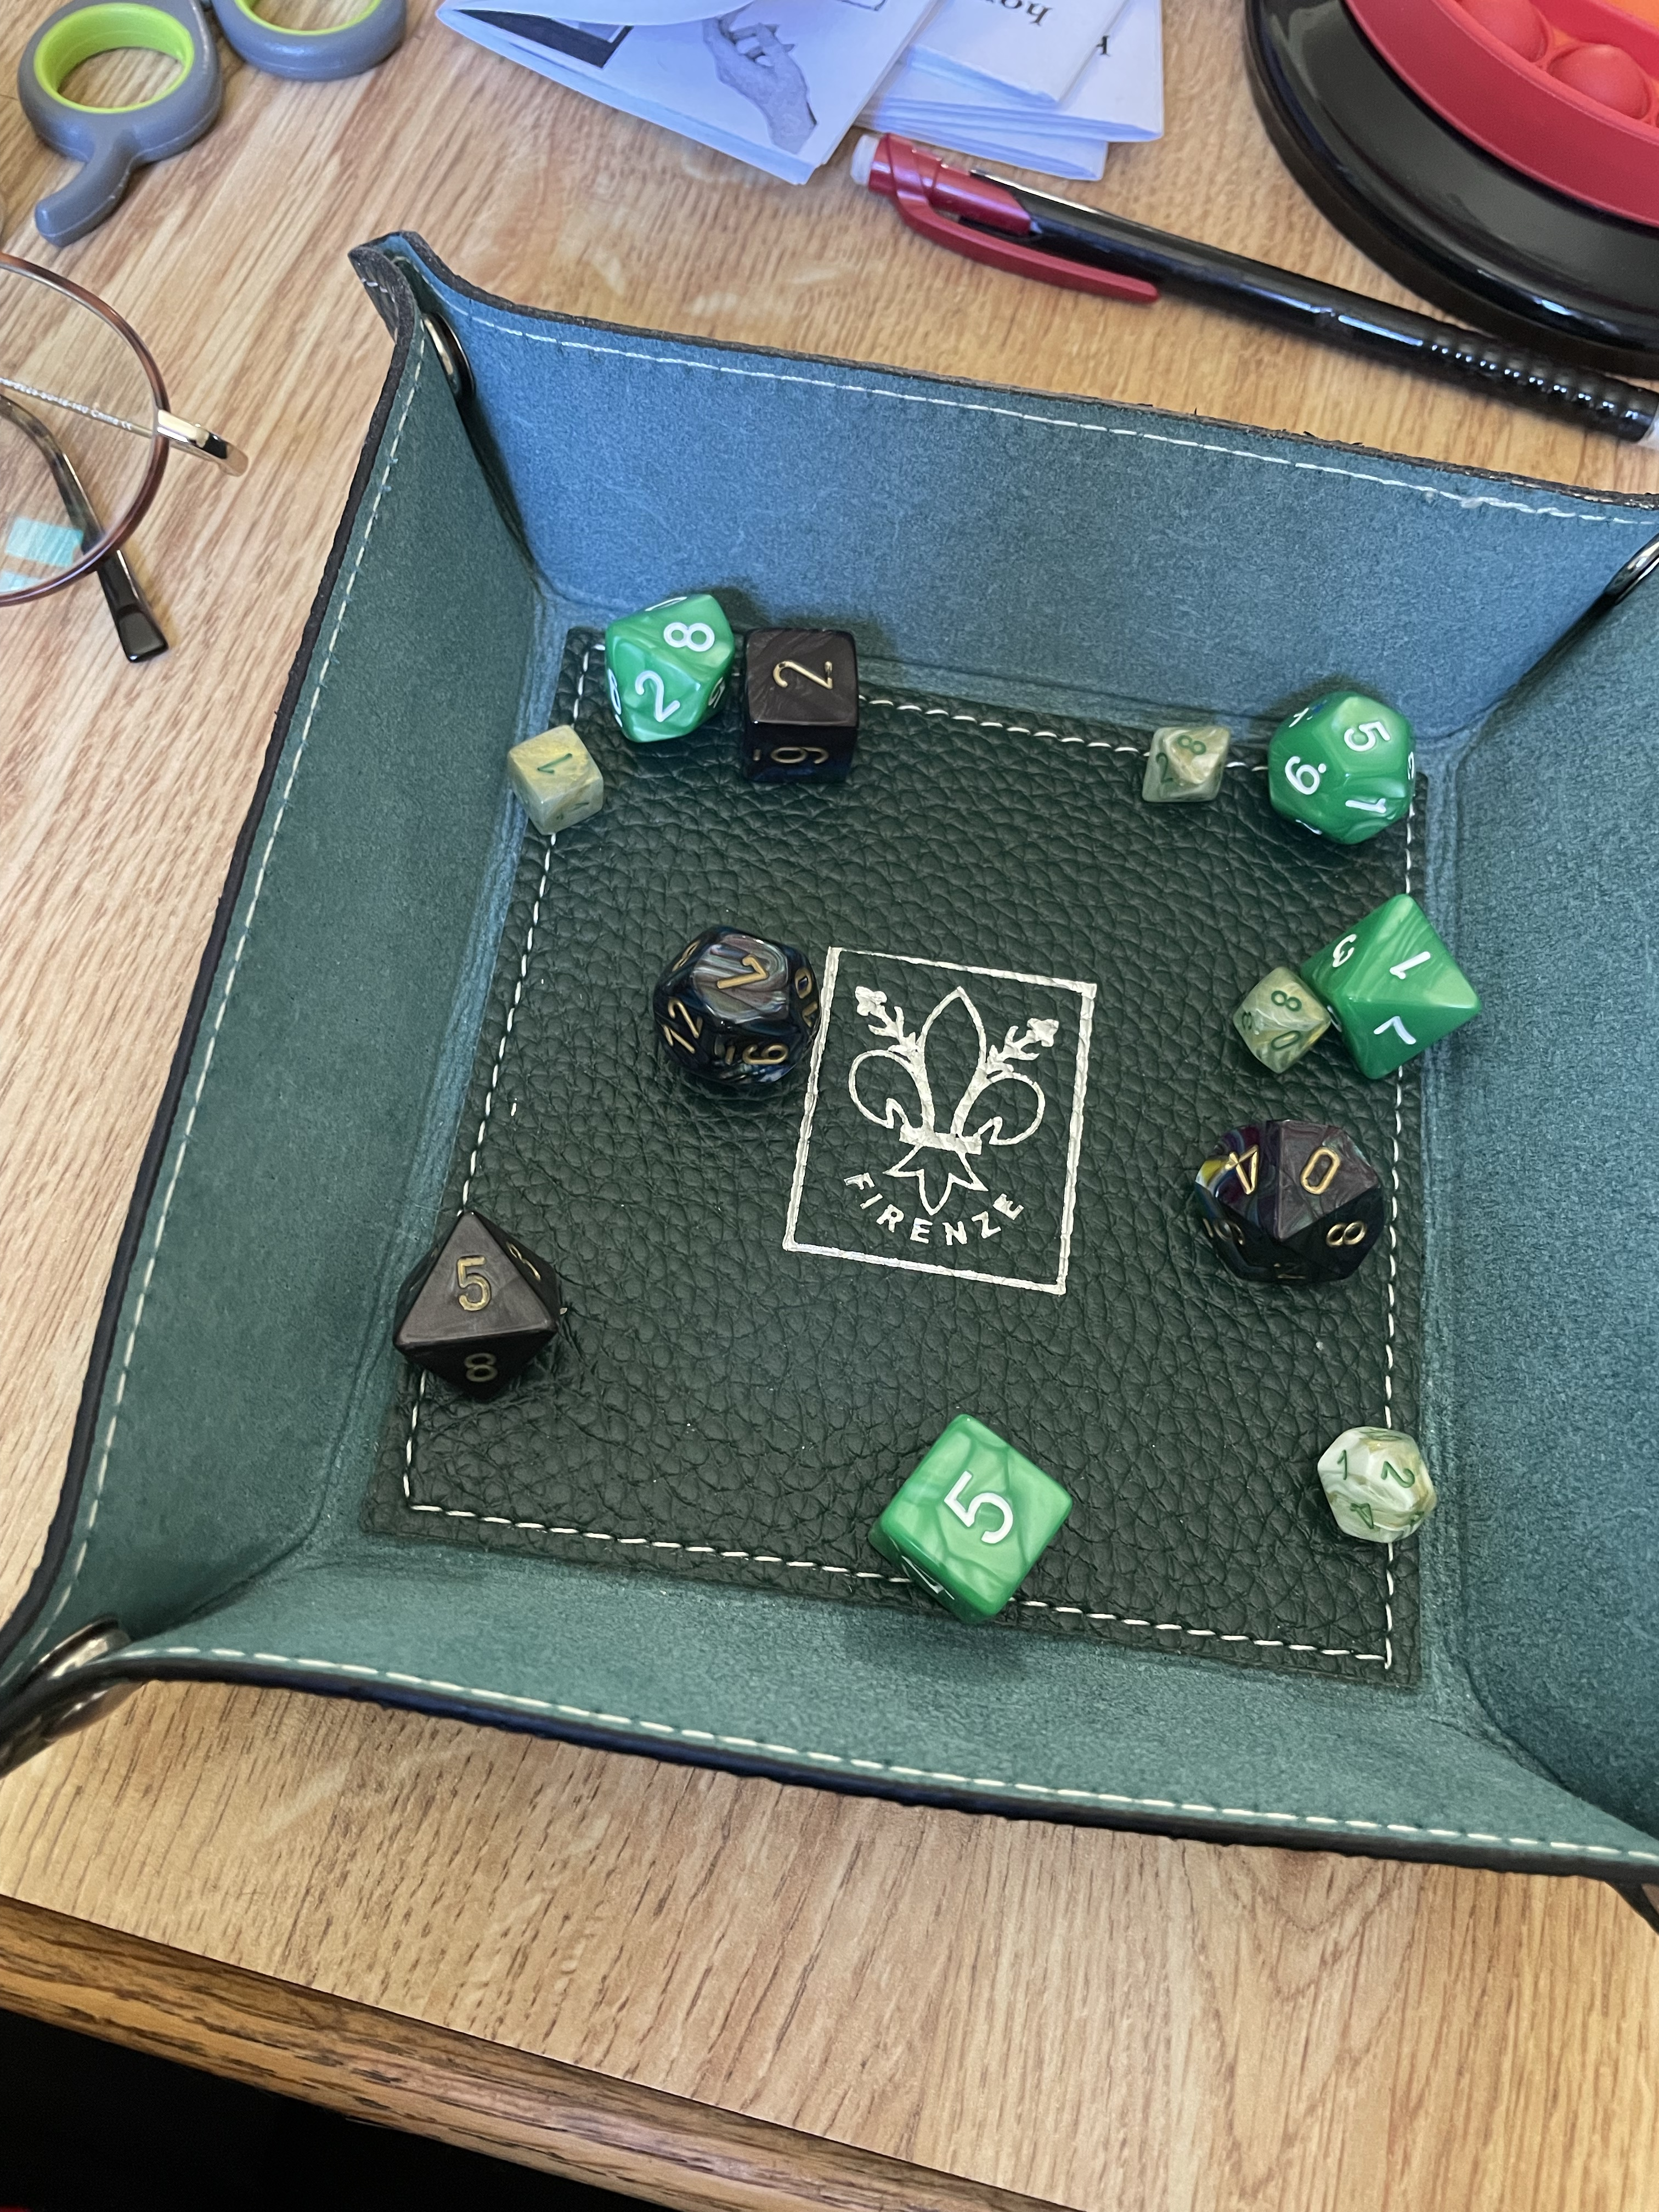eight: (587, 573, 758, 765), (1211, 948, 1345, 1082), (1121, 693, 1246, 829)
five: (833, 1381, 1129, 1663), (1229, 653, 1473, 876), (373, 1191, 594, 1428)
one: (1307, 874, 1504, 1111), (483, 705, 626, 848)
seven: (633, 895, 856, 1132)
two: (1281, 1409, 1473, 1585), (730, 617, 890, 803)
zero: (1183, 1099, 1424, 1303)
